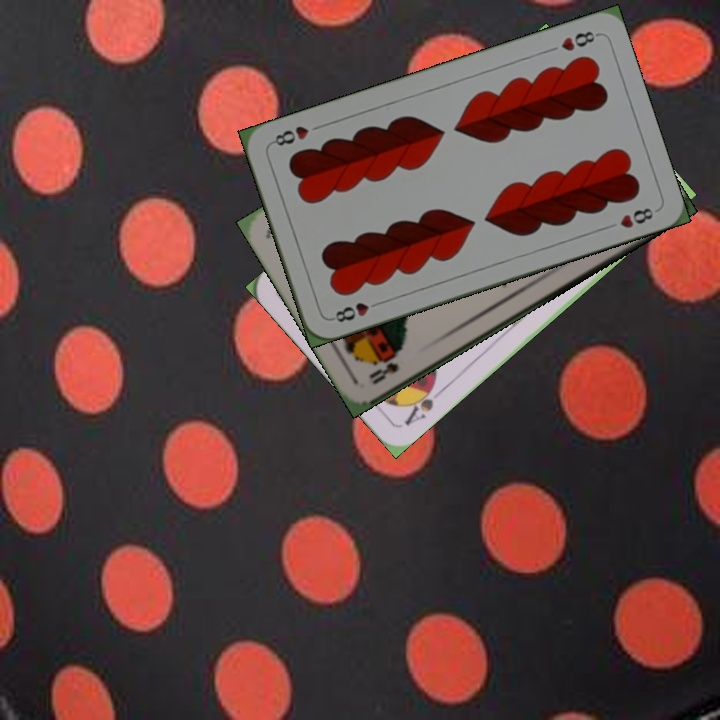H8: (543, 27, 601, 55), (327, 297, 384, 325)
SA: (400, 377, 447, 429)
SO: (365, 350, 402, 388)
